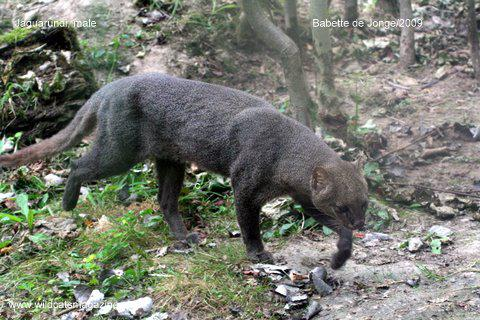Jaguarundi: (9, 69, 377, 279)
